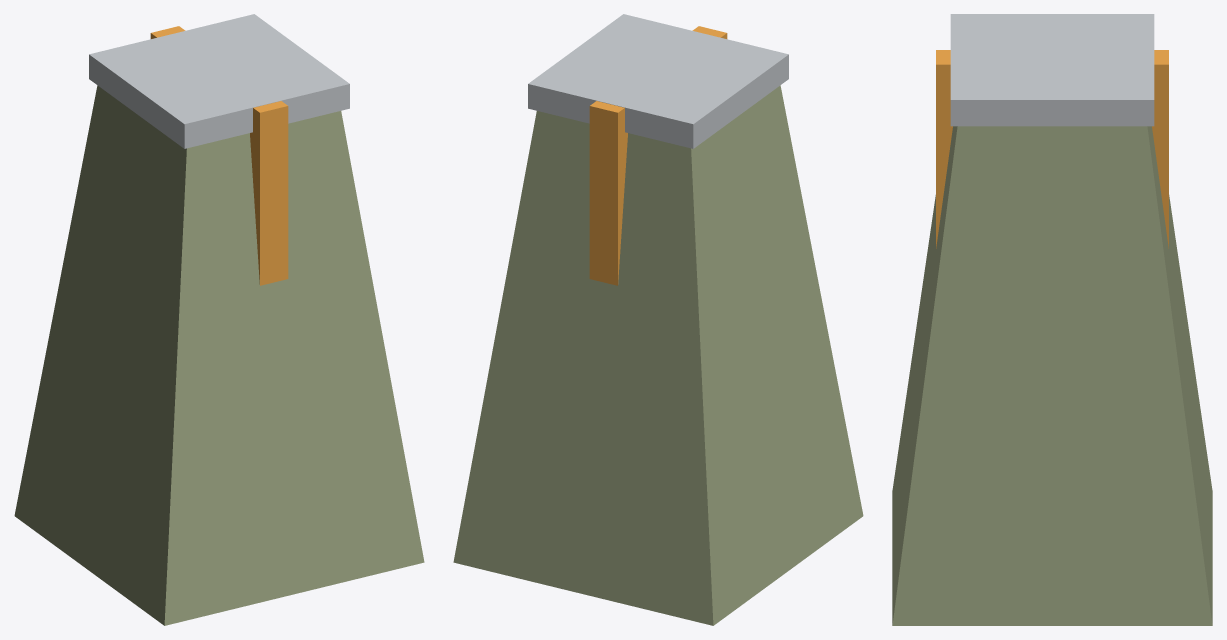
The model's file is mech-hangar-and-battle-frames-supply-drop-pod-30ecc7ce__26986.glb.
3 renders of one model, left to right at view 1: azimuth 30°, elevation 25°; view 2: azimuth 150°, elevation 25°; view 3: azimuth 270°, elevation 25°, orthographic. The views are drawn at different scales.
Visible parts, largest first — view 1: supply-drop-pod; view 2: supply-drop-pod; view 3: supply-drop-pod.
Part boxes in pixels (x1=…): supply-drop-pod: x1=14, y1=14, x2=424, y2=625; supply-drop-pod: x1=453, y1=14, x2=863, y2=625; supply-drop-pod: x1=892, y1=14, x2=1212, y2=625.
Bounding box in the file's own units: 1.1 × 1.9 × 1.1.
